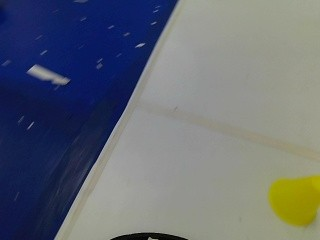cone: (262, 155, 318, 236)
